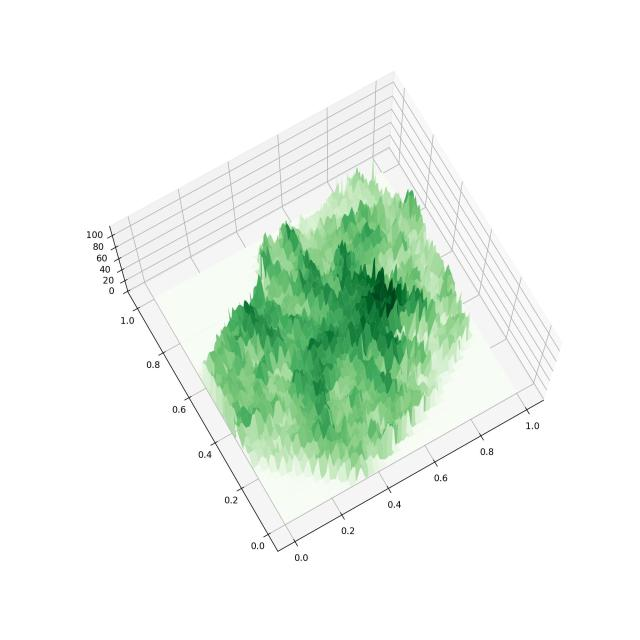spruce: (68, 56, 586, 584)
